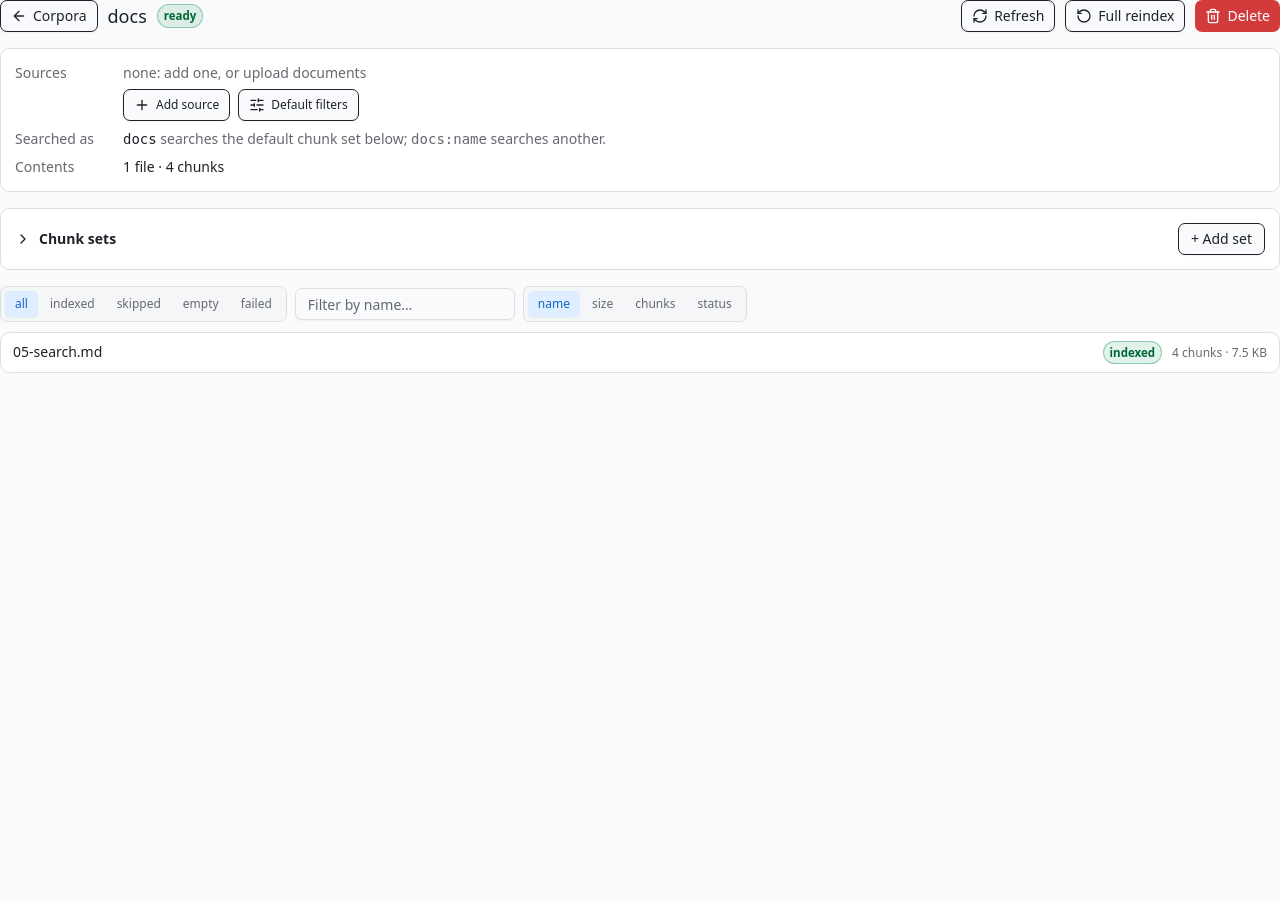
Test: opening a file from the list › numbers the lines from the file, not from the top of the passage
The width and height of the screenshot is (1280, 900).
Click the button "05-search.md".
click(58, 352)  # box [13, 342, 1093, 362]
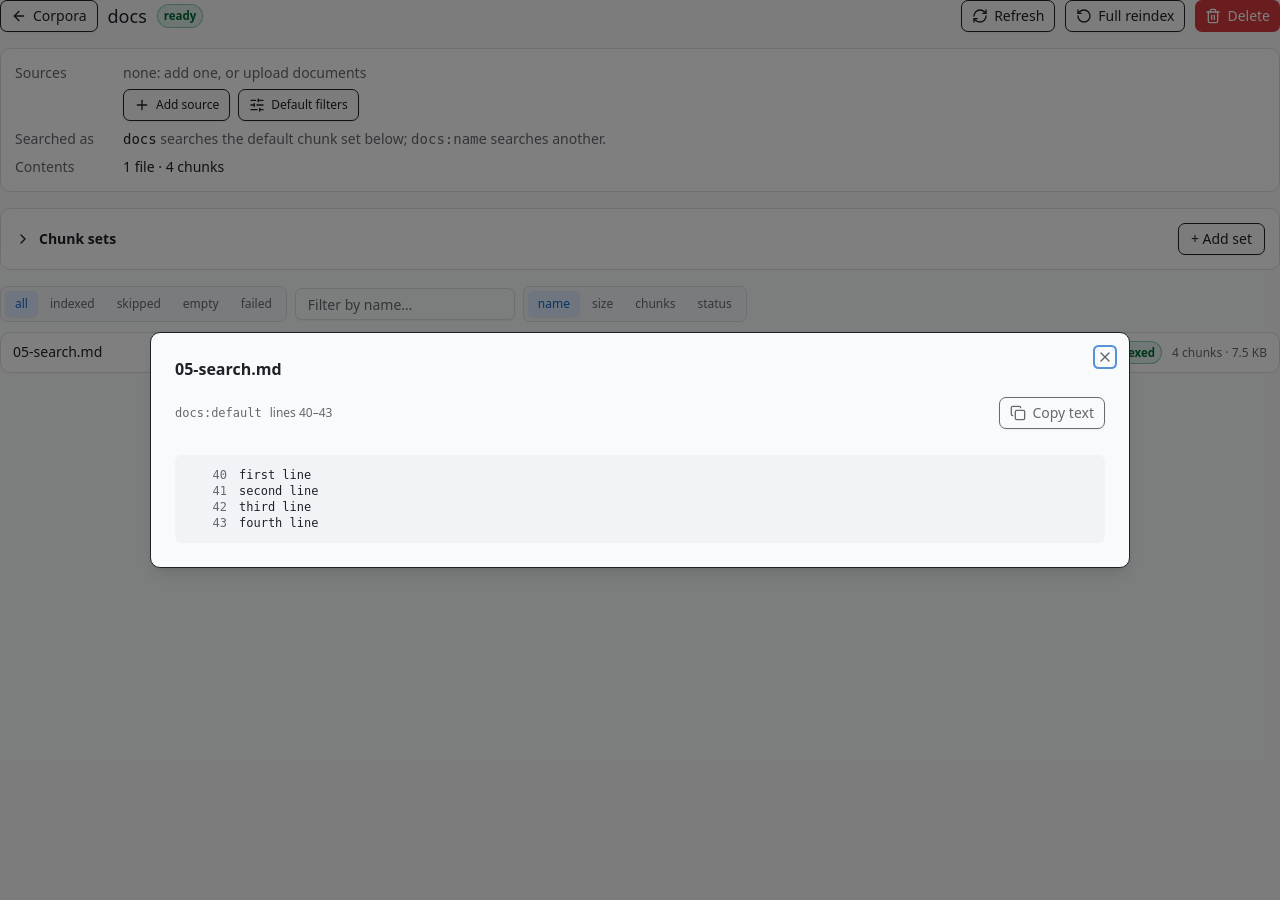
Expected: the text "40" is shown, [212, 468, 227, 482]
Expected: the text "43" is shown, [212, 516, 227, 530]
